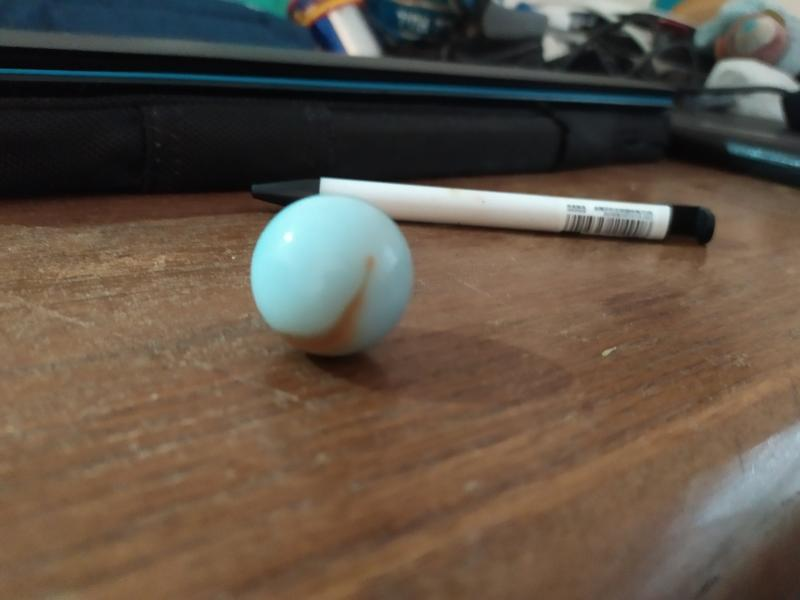Warning: (245, 192, 421, 363)
